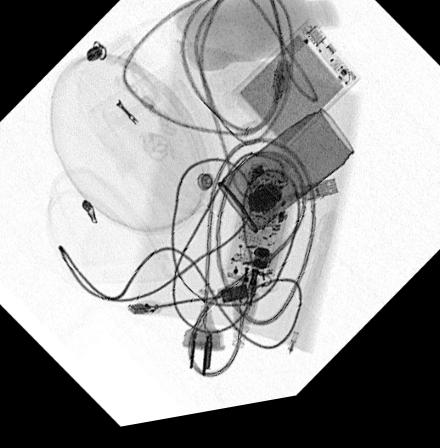Powerbank: (231, 29, 361, 165)
